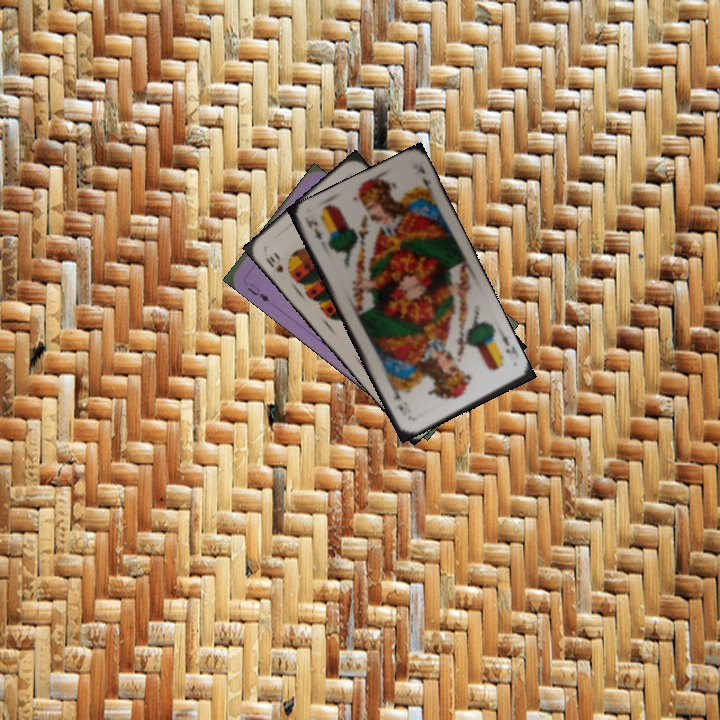EK: (496, 330, 520, 360), (303, 215, 325, 242)
EU: (243, 279, 272, 304)
S10: (261, 252, 286, 275)
